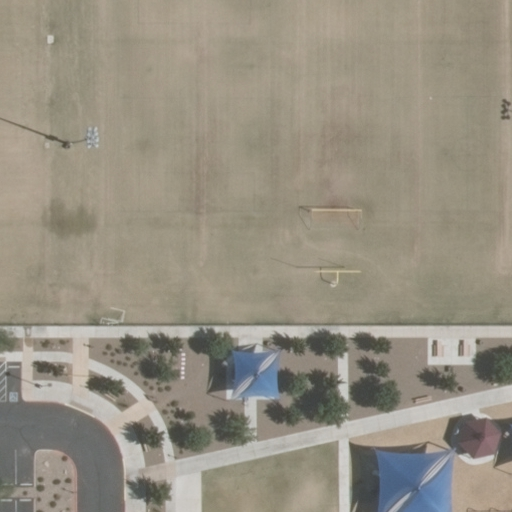DT: (62, 125, 100, 151)
